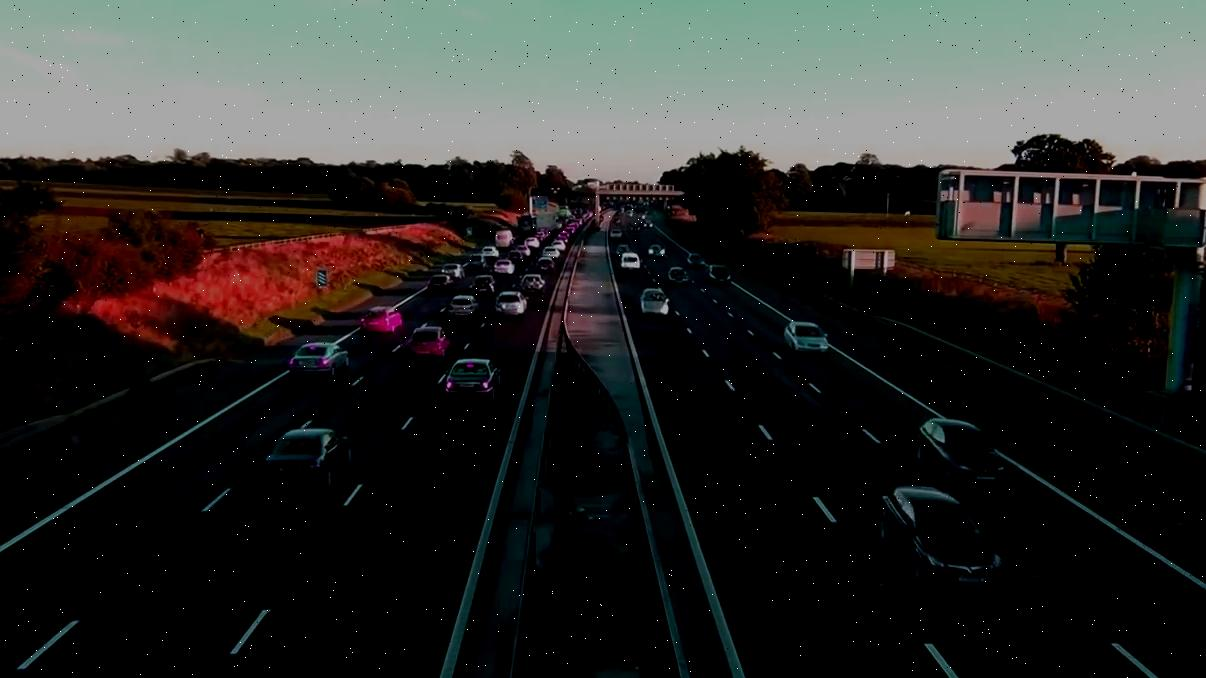car: (878, 485, 1005, 593), (917, 415, 1005, 491), (263, 427, 352, 490), (442, 361, 501, 397), (286, 342, 342, 377), (781, 322, 828, 358), (407, 326, 450, 361), (359, 308, 403, 336), (638, 289, 668, 318), (494, 294, 524, 319), (449, 296, 477, 319), (427, 274, 453, 295), (472, 275, 497, 294), (619, 255, 642, 273), (708, 266, 730, 284), (670, 268, 693, 285), (441, 264, 467, 279), (685, 254, 707, 268), (469, 252, 487, 268), (495, 259, 514, 274), (537, 257, 554, 273)
